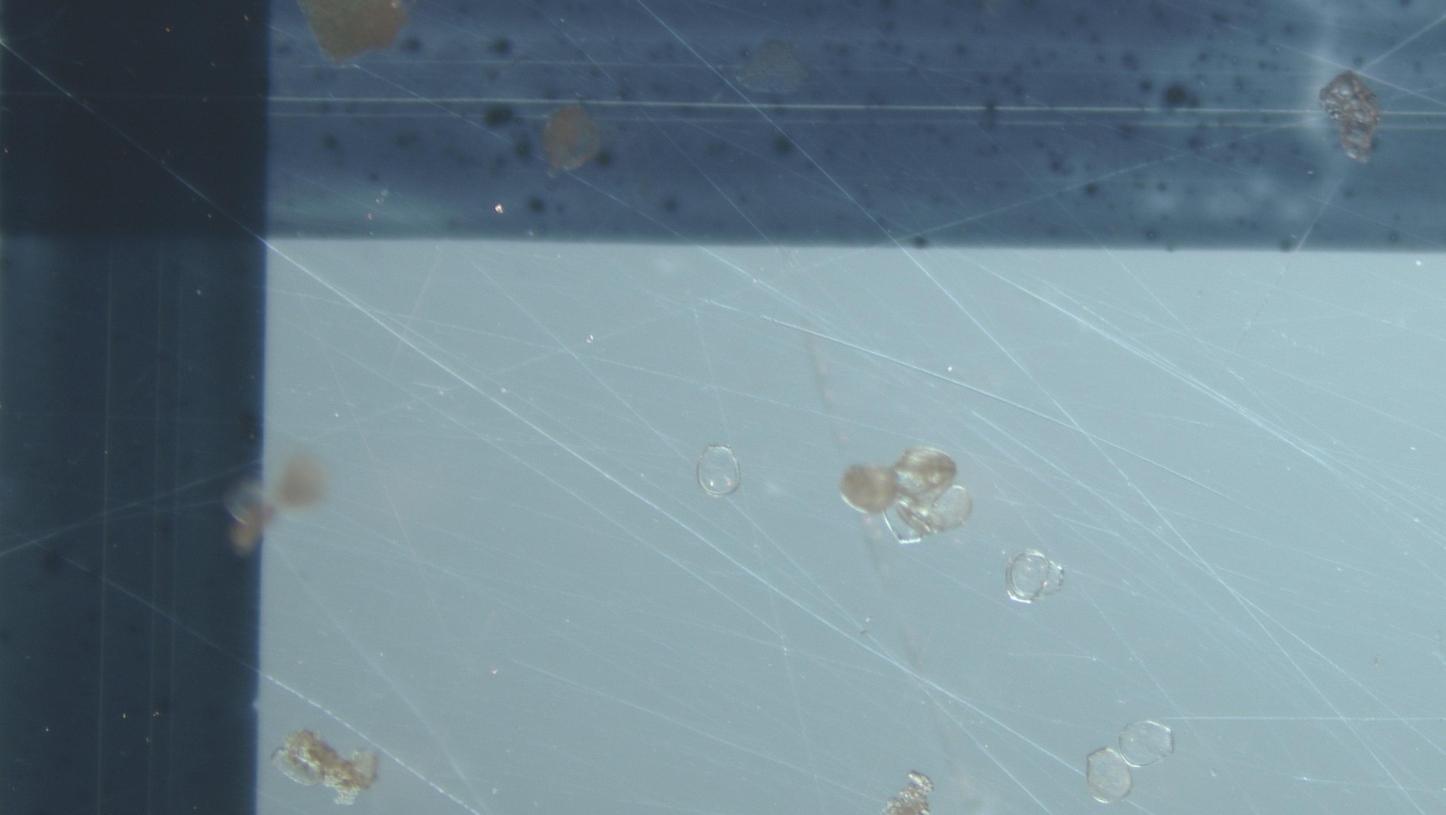dead: (1005, 550, 1065, 604), (1119, 721, 1174, 767), (1087, 748, 1131, 803), (696, 446, 742, 497)
live: (892, 447, 956, 505), (840, 465, 898, 515)
